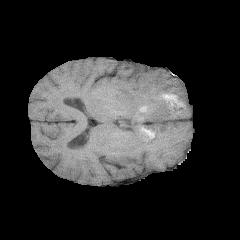glioma: (108, 70, 187, 143)
